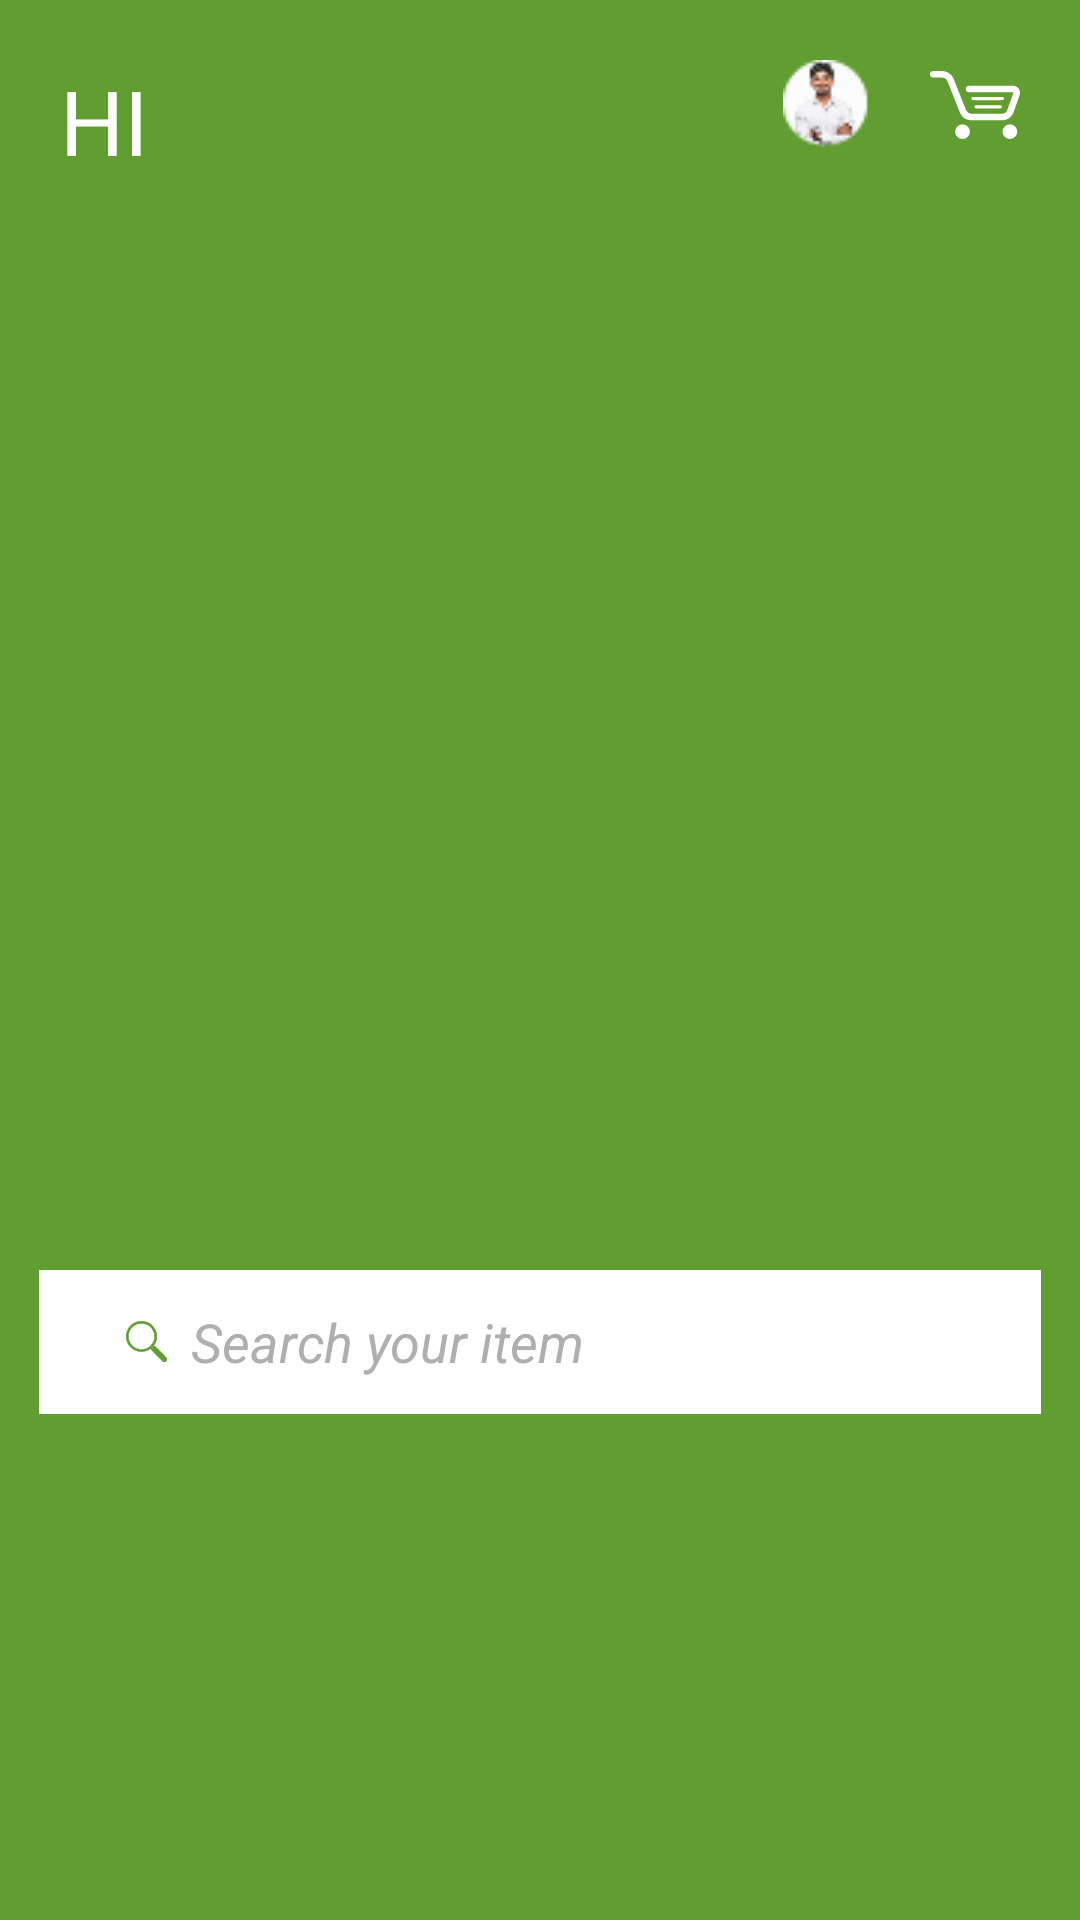

Named icons in this screenshot (1080px x 1920px) and their bounding boxes, (x1, y1, x2, y2):
cart: (930, 71, 1020, 139)
profile: (783, 60, 868, 147)
